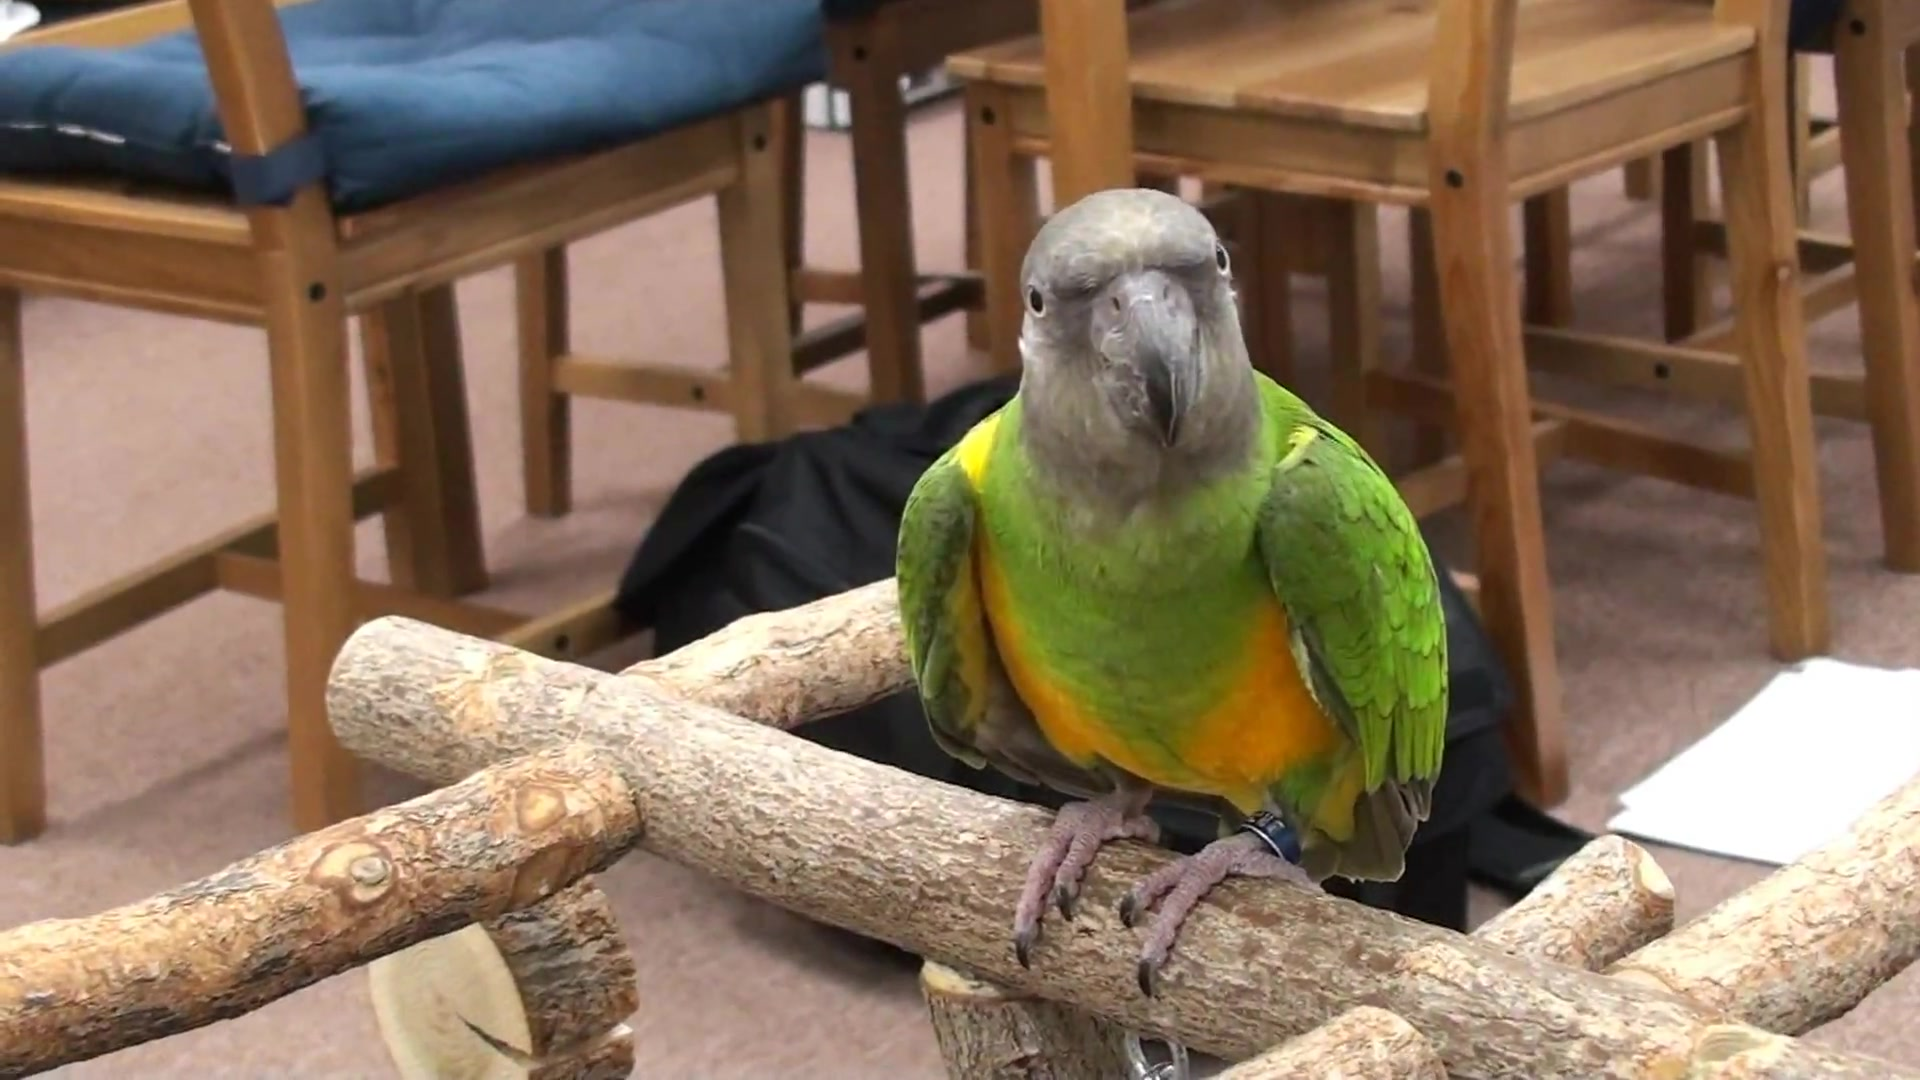bird: (893, 187, 1455, 1002)
